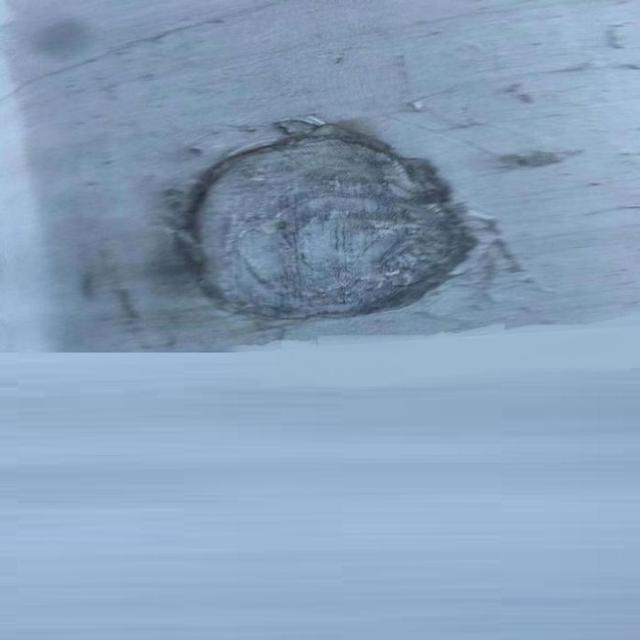crack: (168, 109, 483, 325)
